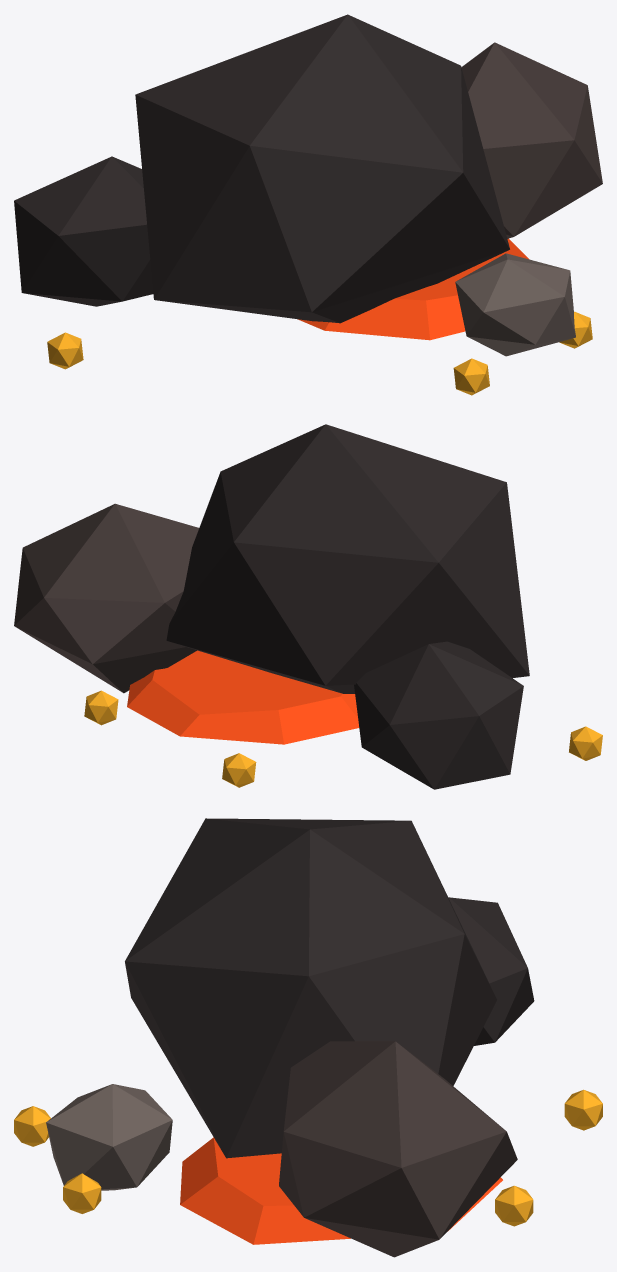
File: LavaRocks.fbx
3 views of the same model, one above another, from view 1: azimuth 30°, elevation 25°; view 2: azimuth 150°, elevation 25°; view 3: azimuth 270°, elevation 25° (orthographic). The views are drawn at different scales.
Parts seen in each view (by area): view 1: LavaRocks, LavaRocks_Glow; view 2: LavaRocks, LavaRocks_Glow; view 3: LavaRocks, LavaRocks_Glow.
Boxes of the visible parts, bbox=[...] form: LavaRocks: bbox=[14, 14, 602, 356]; LavaRocks_Glow: bbox=[47, 238, 592, 395]; LavaRocks: bbox=[14, 424, 529, 789]; LavaRocks_Glow: bbox=[84, 650, 602, 787]; LavaRocks: bbox=[46, 818, 534, 1257]; LavaRocks_Glow: bbox=[14, 1089, 602, 1244].
Bounding box in the file's own units: 586 × 293 × 470.
Materials: 1 (1 with a texture image).
